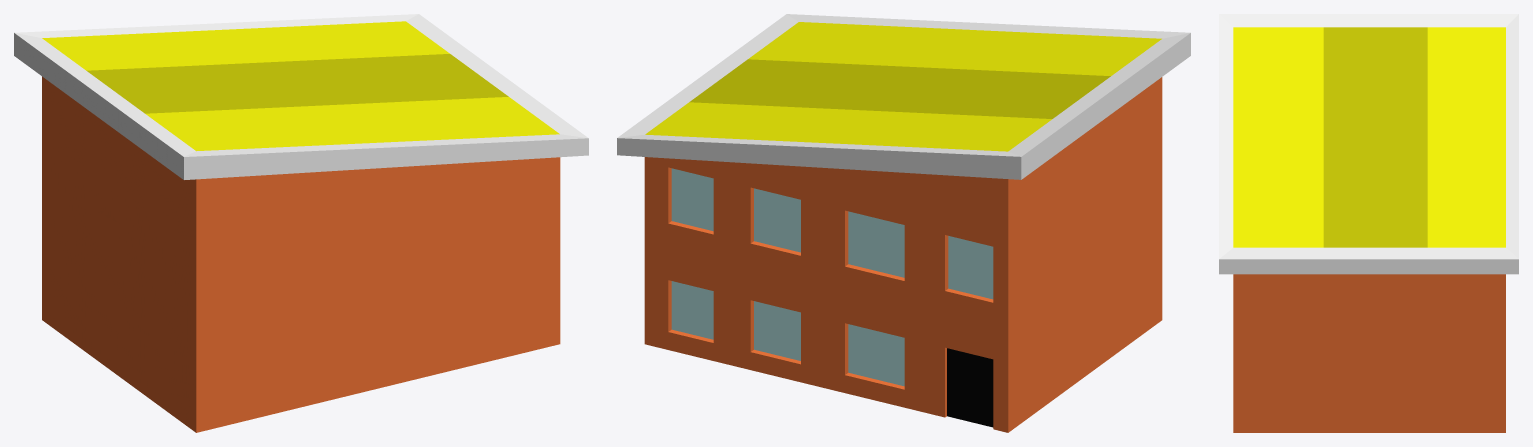
File: Bld_2.fbx
3 views of the same model, side by side, from view 1: azimuth 30°, elevation 25°; view 2: azimuth 150°, elevation 25°; view 3: azimuth 270°, elevation 25° (orthographic). The views are drawn at different scales.
Parts seen in each view (by area): view 1: house; view 2: house; view 3: house.
Part boxes in pixels (x1,y1,x2,y2): house: (14, 14, 588, 432); house: (617, 14, 1190, 432); house: (1219, 14, 1518, 432).
Size of the model in its own units: 1489 by 1008 by 1082.
